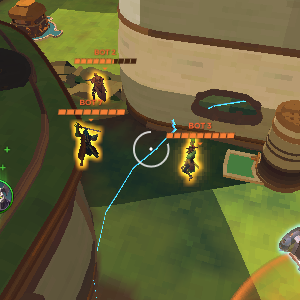model: (70, 122, 103, 170), (86, 70, 113, 108), (180, 139, 202, 180)
